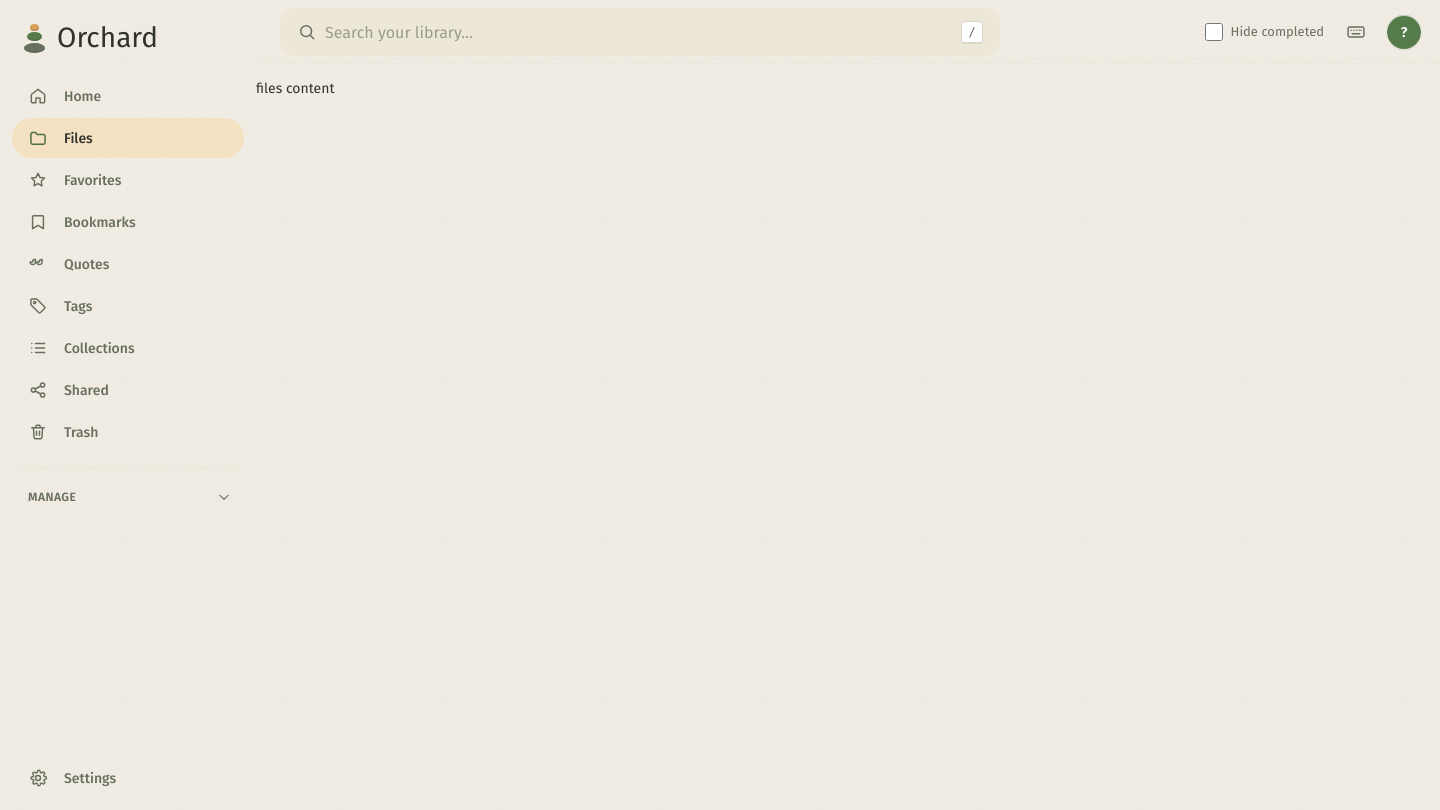
Test: AppShell › searches files from the home, files, and favorites pages
The width and height of the screenshot is (1440, 810).
Type "dune" into the dropdown named "Search Orchard" at (639, 32), box [325,9,953,55]
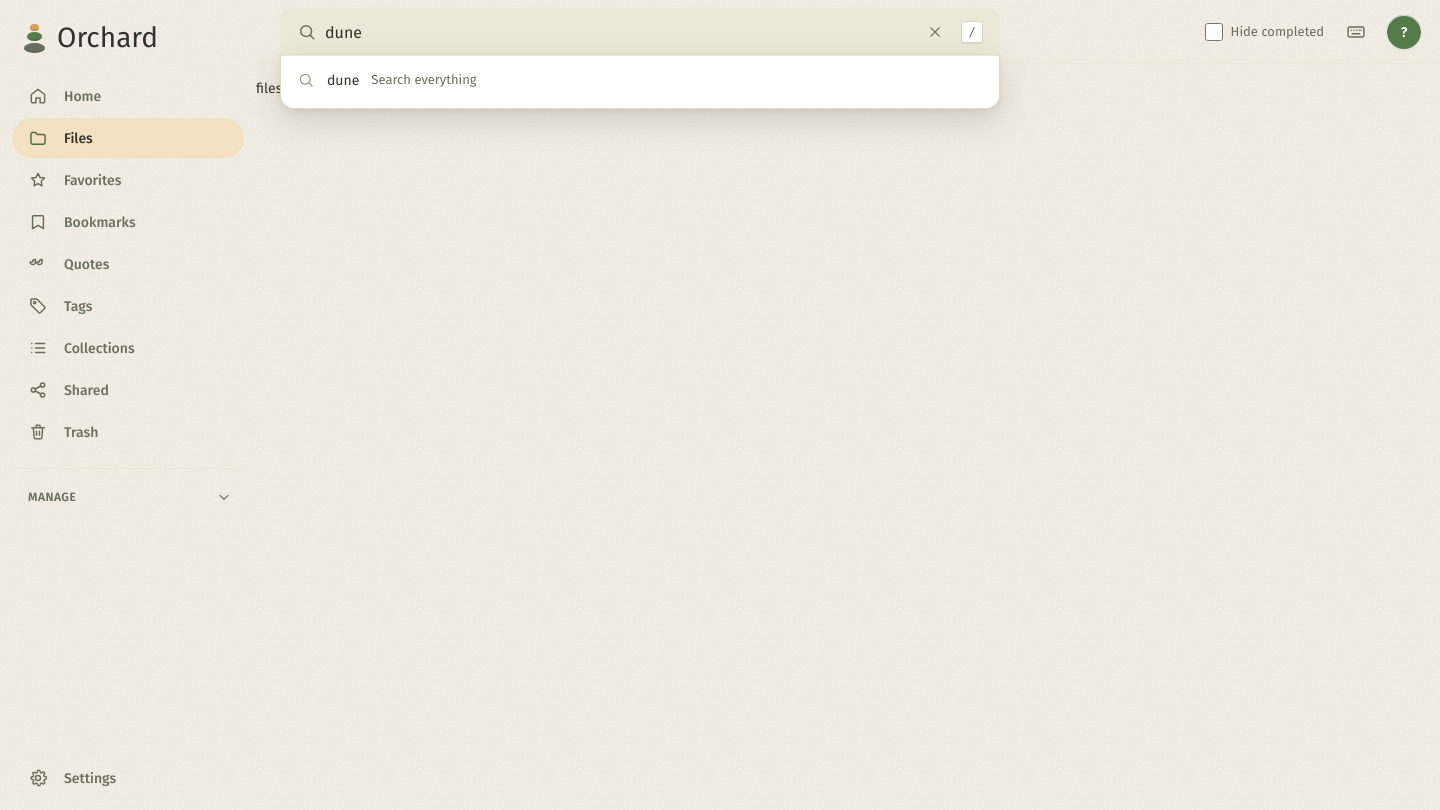
Submit the form, box [280,8,1000,56]
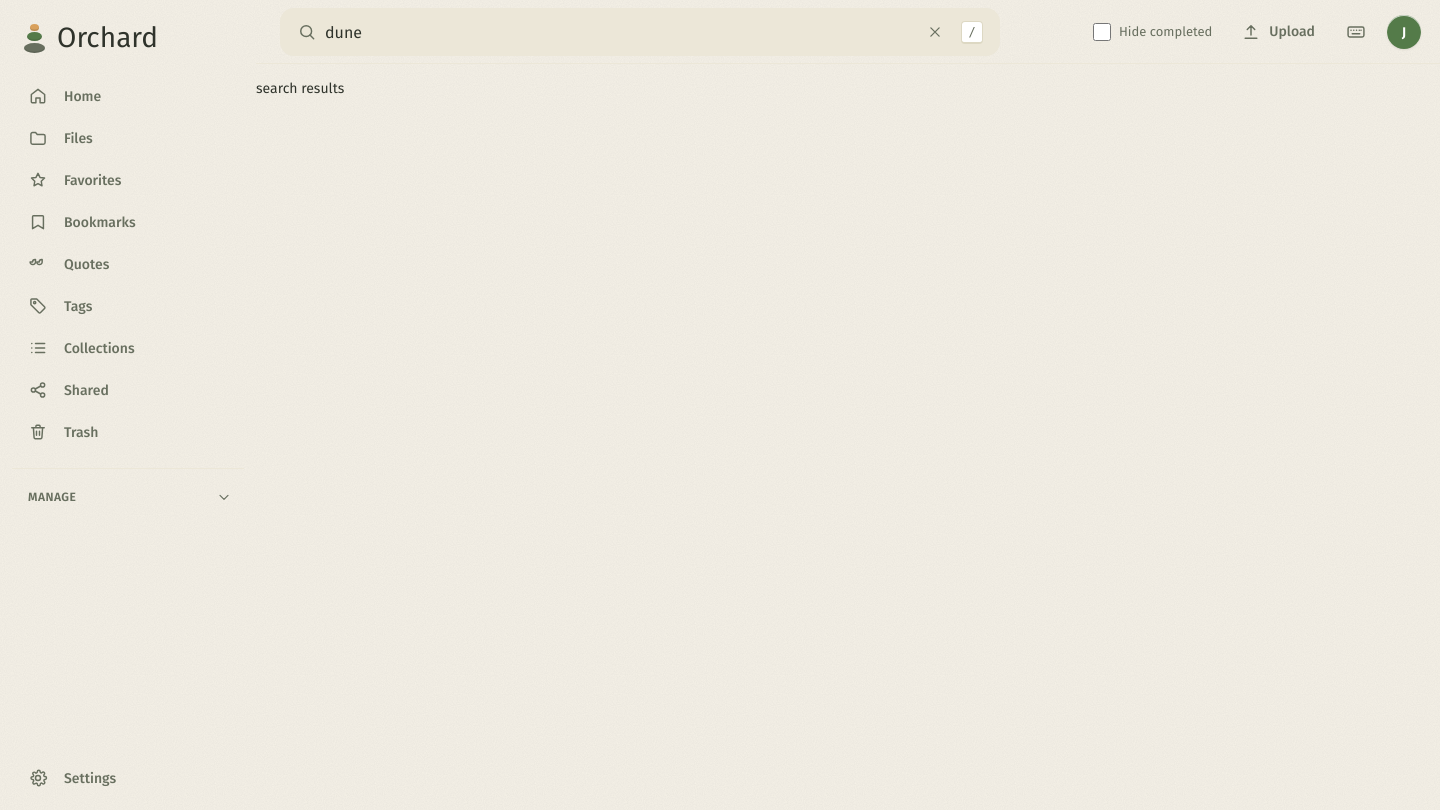
Result: the text "search results" is shown at [256,80,344,97]
